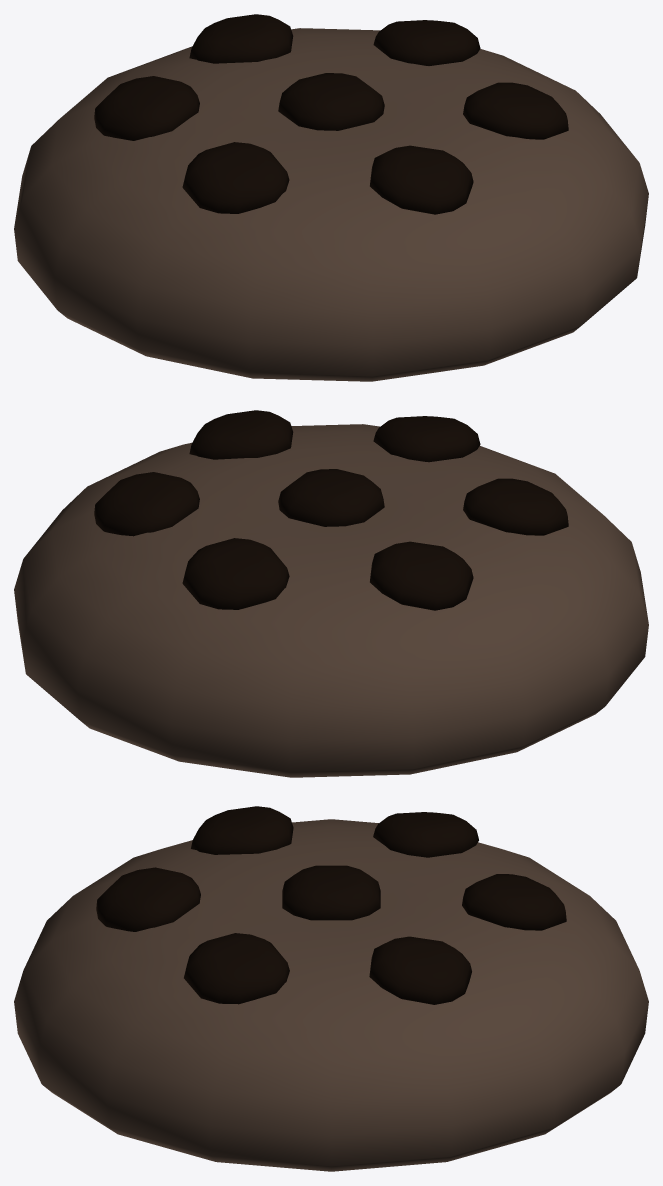
Rendered from Cookies_2.FBX.
3 views of the same model, one above another, from view 1: azimuth 30°, elevation 25°; view 2: azimuth 150°, elevation 25°; view 3: azimuth 270°, elevation 25° (orthographic).
Visible parts, largest first — view 1: Cookies_2; view 2: Cookies_2; view 3: Cookies_2.
Part boxes in pixels (x1,y1,x2,y2): Cookies_2: (14, 14, 648, 381); Cookies_2: (14, 410, 648, 777); Cookies_2: (14, 806, 648, 1171).
Bounding box in the file's own units: 1012 × 1012 × 292.
